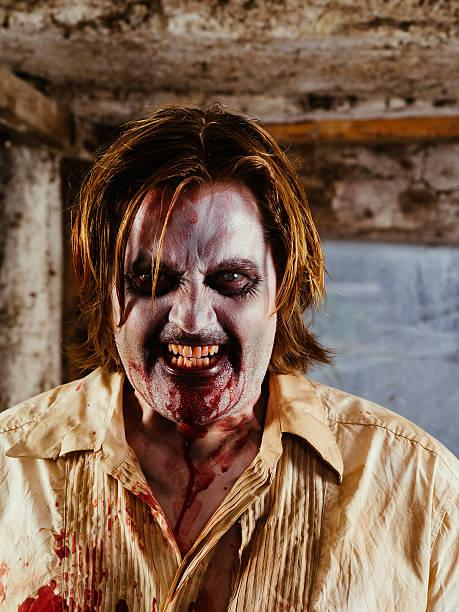Zombie: (119, 191, 257, 426)
